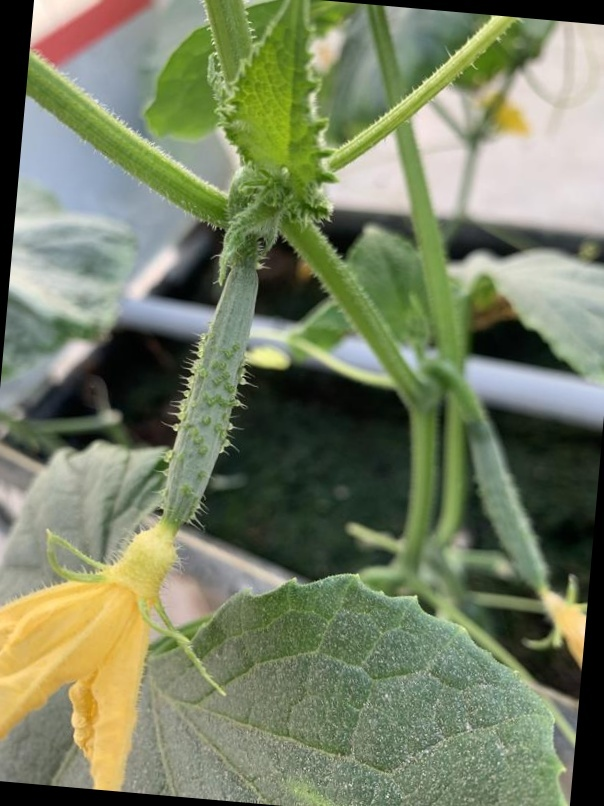bear: (0, 212, 298, 750)
